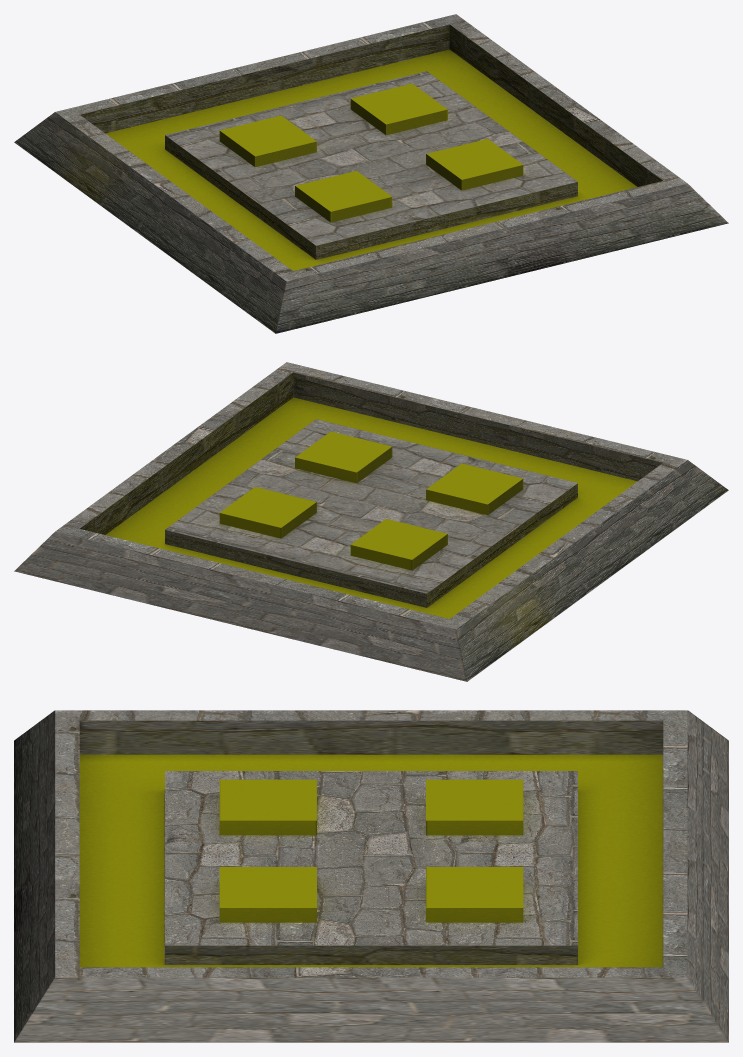
Rendered from yellow_villa.gltf.
3 renders of one model, top to bottom at view 1: azimuth 30°, elevation 25°; view 2: azimuth 150°, elevation 25°; view 3: azimuth 270°, elevation 25°, orthographic. The views are drawn at different scales.
Visible parts, largest first — view 1: yellow_villa_lp; view 2: yellow_villa_lp; view 3: yellow_villa_lp.
Boxes of the visible parts, bbox=[...] form: yellow_villa_lp: bbox=[14, 14, 728, 333]; yellow_villa_lp: bbox=[14, 362, 728, 681]; yellow_villa_lp: bbox=[14, 710, 728, 1042].
Bounding box in the file's own units: 12.09 × 0.895 × 12.09.
Materials: 1 (1 with a texture image).
